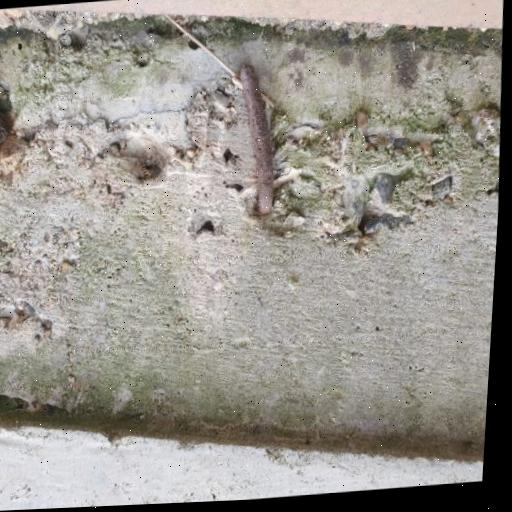exposed_rebar: (239, 63, 273, 215), (0, 114, 9, 144)
